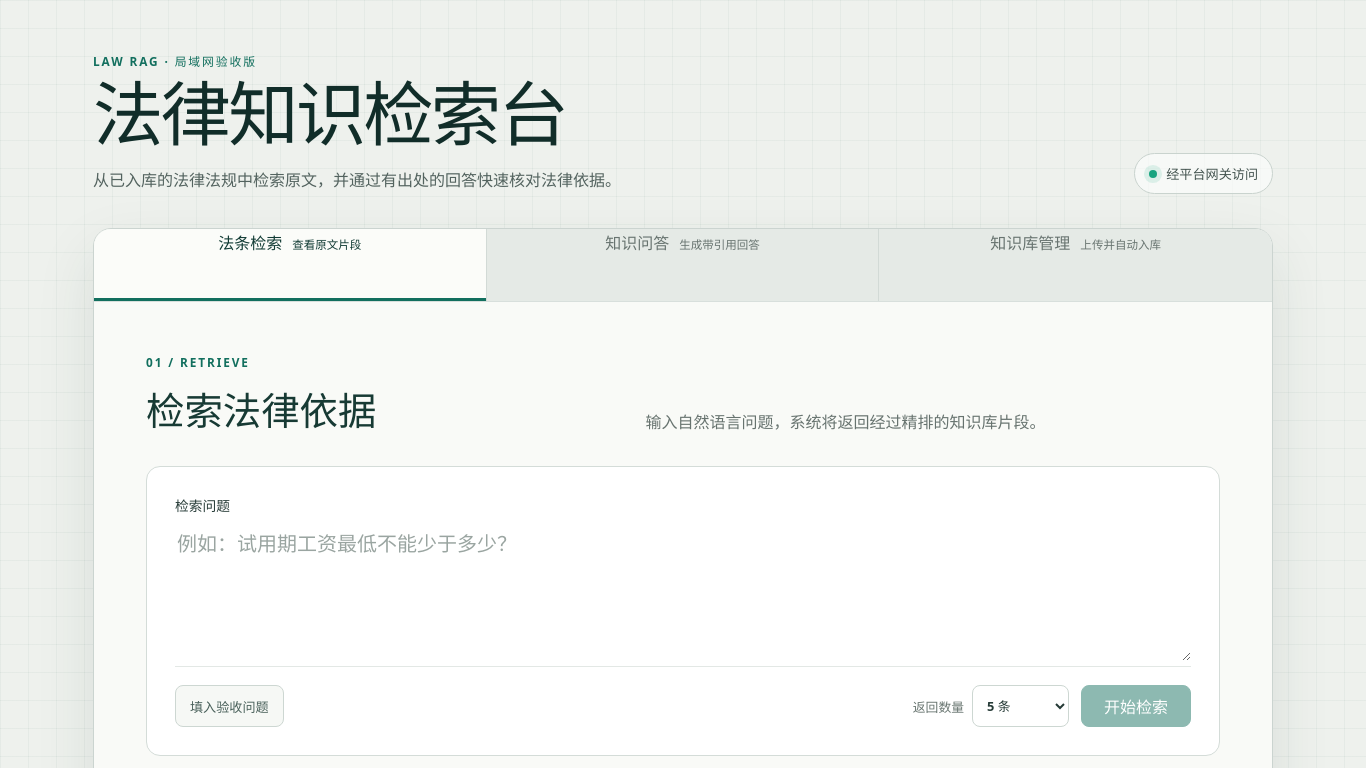
Scenario: App › disables empty submission and renders ranked search results
Expected: the button "开始检索" is disabled, x1=1081 y1=685 x2=1191 y2=727
Type "试用期工资" into the text box labelled "检索问题".
click(683, 593); type("试用期工资")  # box x1=175 y1=525 x2=1191 y2=661
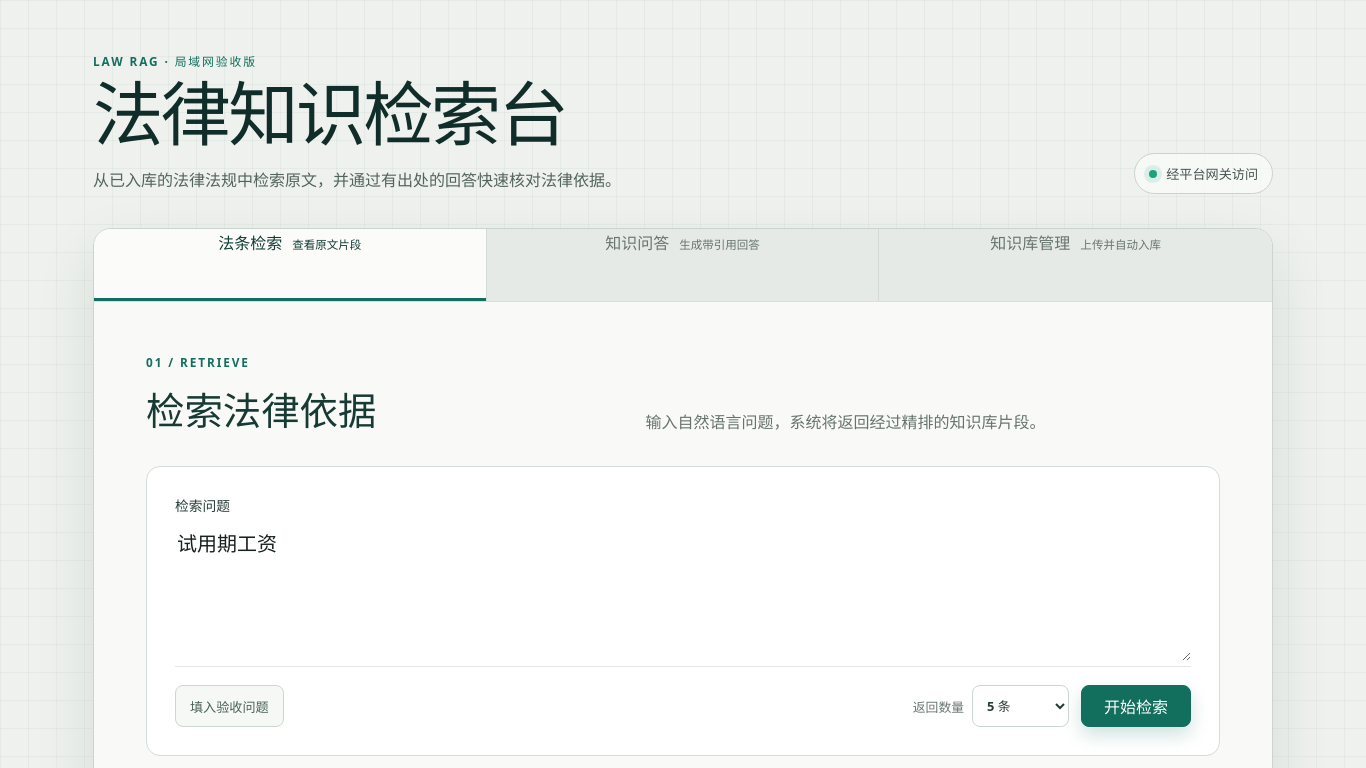
Click the button "开始检索".
click(1136, 706)  # box x1=1081 y1=685 x2=1191 y2=727
(page scrolled)
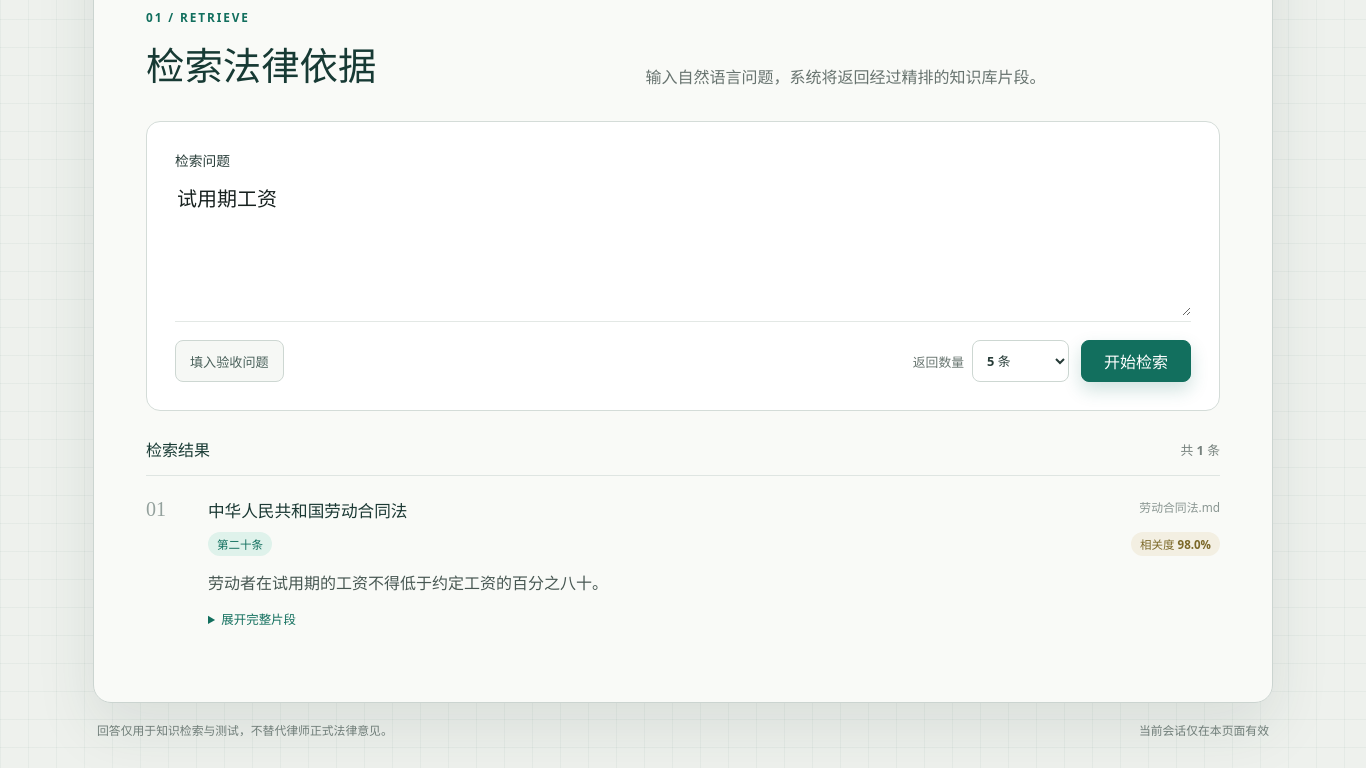
Now the heading "中华人民共和国劳动合同法" is shown, box x1=208 y1=498 x2=408 y2=522
Now the text "第二十条" is shown, box x1=208 y1=532 x2=272 y2=556
Now the text "相关度 98.0%" is shown, box x1=1131 y1=532 x2=1220 y2=556
